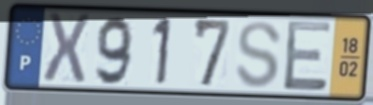1: (151, 15, 175, 89)
7: (192, 17, 234, 89)
9: (95, 14, 135, 87)
E: (282, 18, 334, 94)
S: (234, 19, 285, 91)
X: (41, 10, 93, 86)
